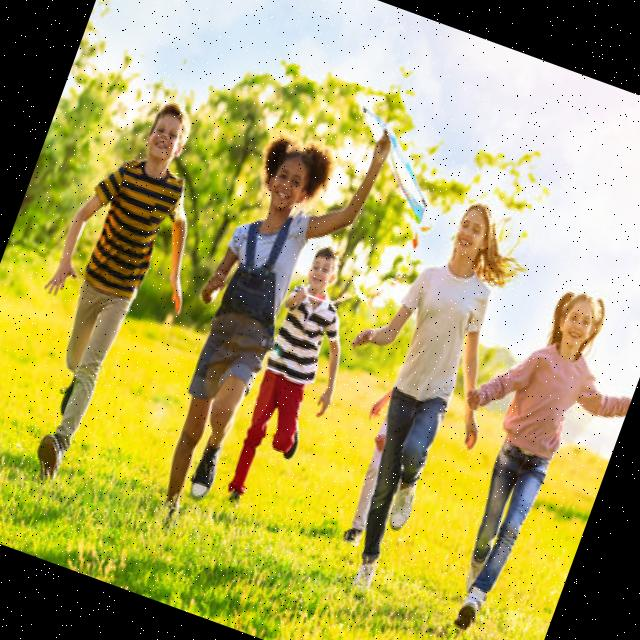Person: (125, 92, 395, 547), (272, 178, 552, 615), (0, 83, 244, 503), (393, 268, 640, 640), (218, 239, 378, 519)
